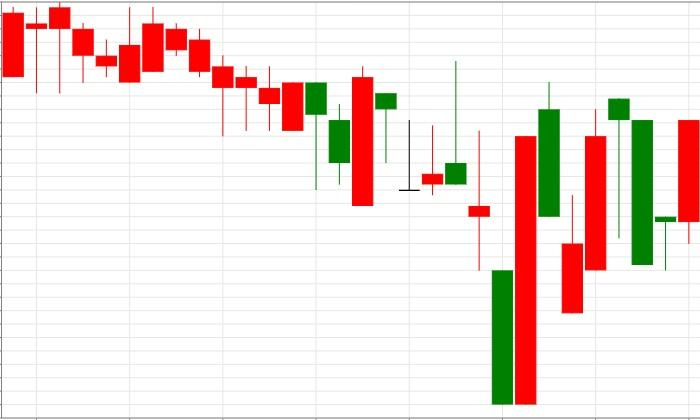bullish_engulfing_rise: (374, 59, 537, 405), (142, 5, 373, 206)
hanging_man_fall: (561, 98, 631, 313)
